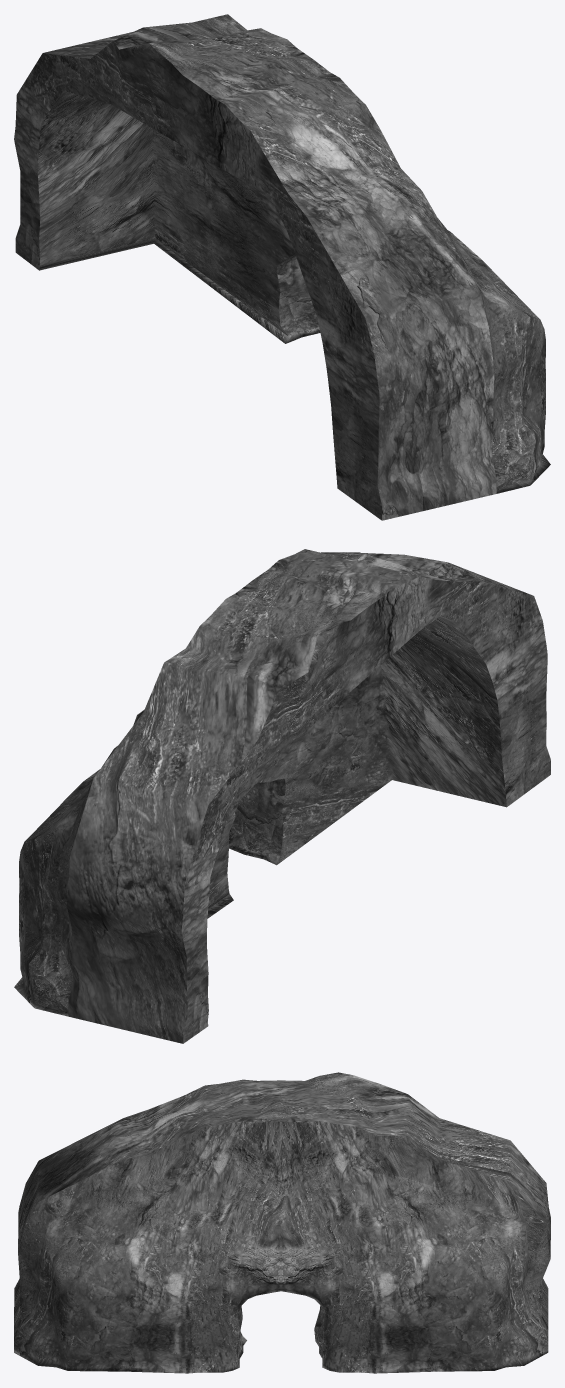
The model's file is cave_entrance.fbx.
3 renders of one model, top to bottom at view 1: azimuth 30°, elevation 25°; view 2: azimuth 150°, elevation 25°; view 3: azimuth 270°, elevation 25°, orthographic. The views are drawn at different scales.
Visible parts, largest first — view 1: entrance; view 2: entrance; view 3: entrance.
Part boxes in pixels (x1,y1,x2,y2): entrance: [14, 14, 550, 520]; entrance: [14, 549, 550, 1043]; entrance: [14, 1072, 550, 1373].
Bounding box in the file's own units: 2379 × 3132 × 6729.
Materials: 1 (1 with a texture image).
